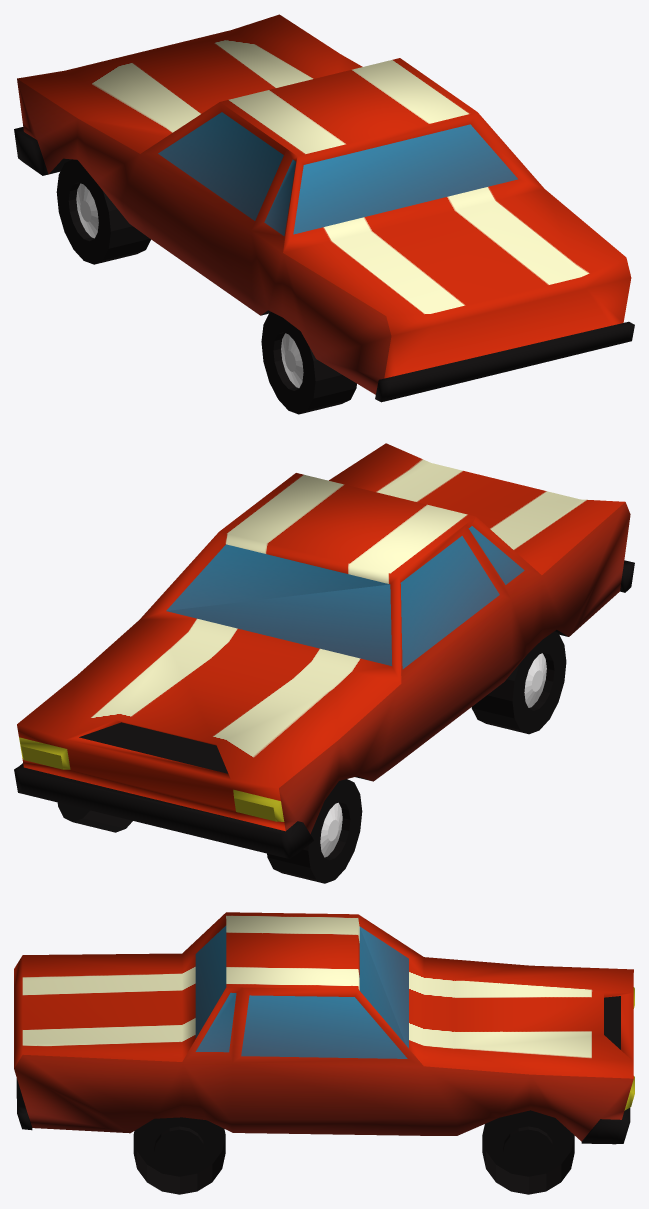
File: red_car.glb
3 renders of one model, top to bottom at view 1: azimuth 30°, elevation 25°; view 2: azimuth 150°, elevation 25°; view 3: azimuth 270°, elevation 25°, orthographic. The views are drawn at different scales.
Visible parts, largest first — view 1: car_body, LF_WHEEL, LB_WHEEL; view 2: car_body, LB_WHEEL, LF_WHEEL, RF_WHEEL; view 3: car_body, RF_WHEEL, RB_WHEEL.
Part boxes in pixels (x1,y1,x2,y2): car_body: (14,14,634,402); LF_WHEEL: (56,159,150,264); LB_WHEEL: (261,312,356,414); car_body: (14,443,634,858); LB_WHEEL: (471,631,566,734); LF_WHEEL: (267,779,362,883); RF_WHEEL: (57,802,132,832); car_body: (14,912,634,1144); RF_WHEEL: (482,1110,574,1194); RB_WHEEL: (133,1117,225,1194).
Size of what is drawn, in the model's own units: 2.28 by 1.81 by 5.28.
1 material, 1 textured.
